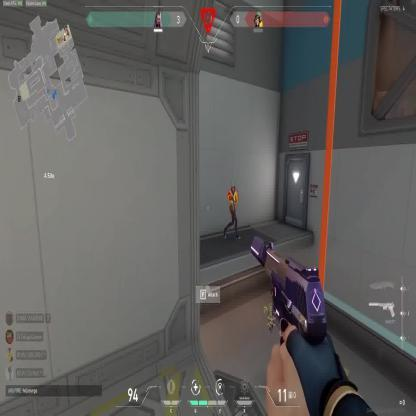enemy: (223, 180, 242, 242)
enemy_head: (231, 182, 235, 192)
